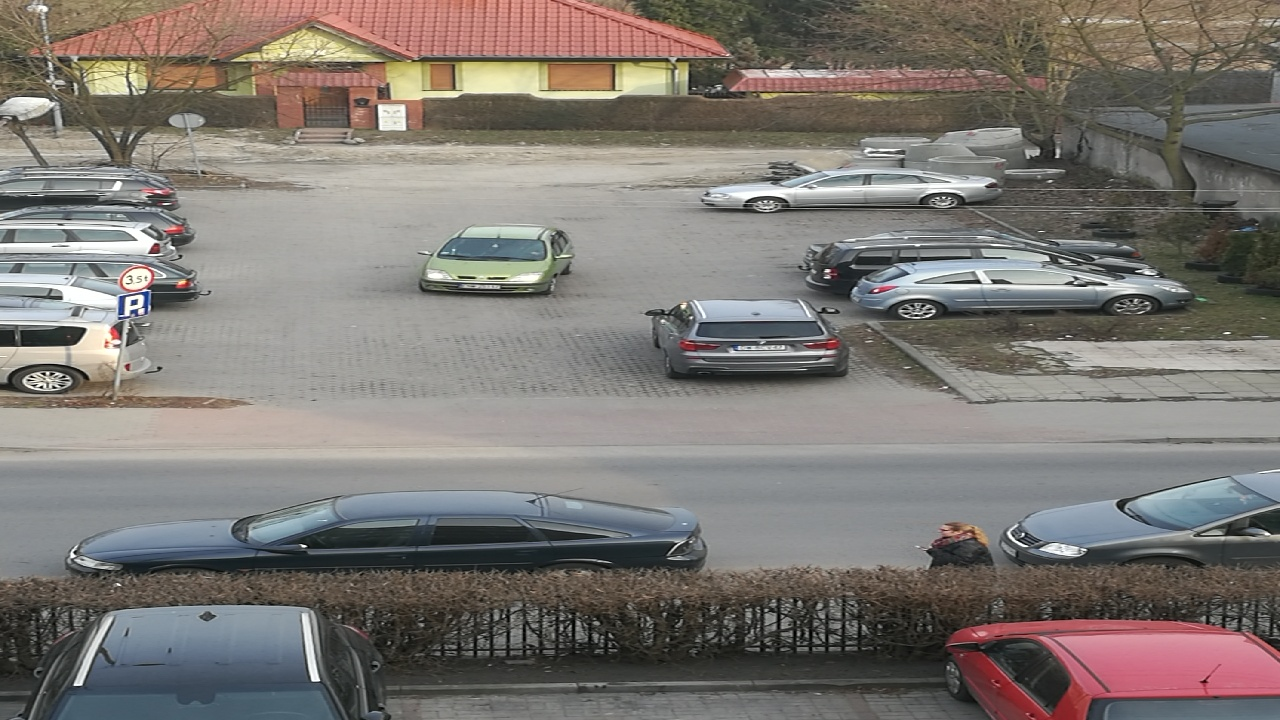D18: (118, 290, 150, 319)
